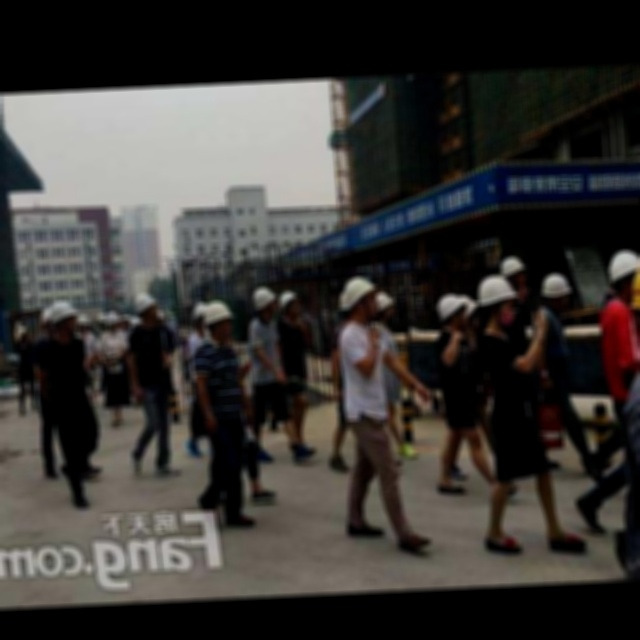Con_Casco: (477, 277, 519, 328), (344, 277, 377, 321)
